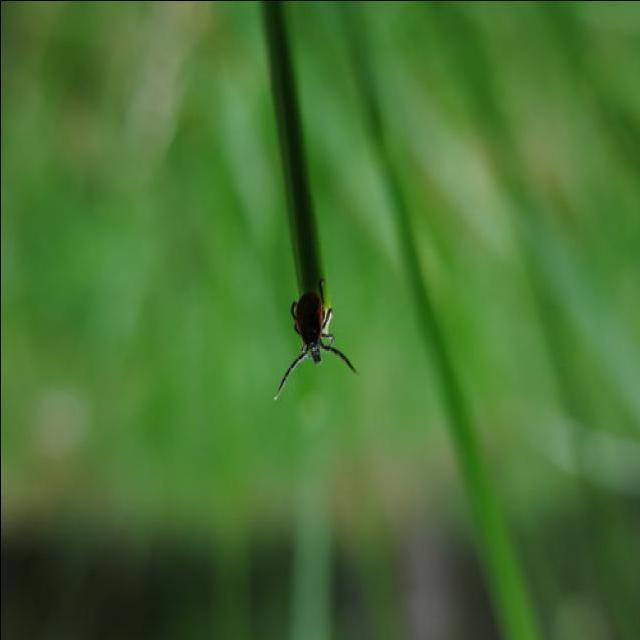Ixodes Ricinus-F: (273, 283, 360, 398)
